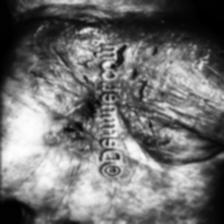Non-Cancerous Skin Condition: (116, 26, 224, 148), (34, 10, 100, 142)
